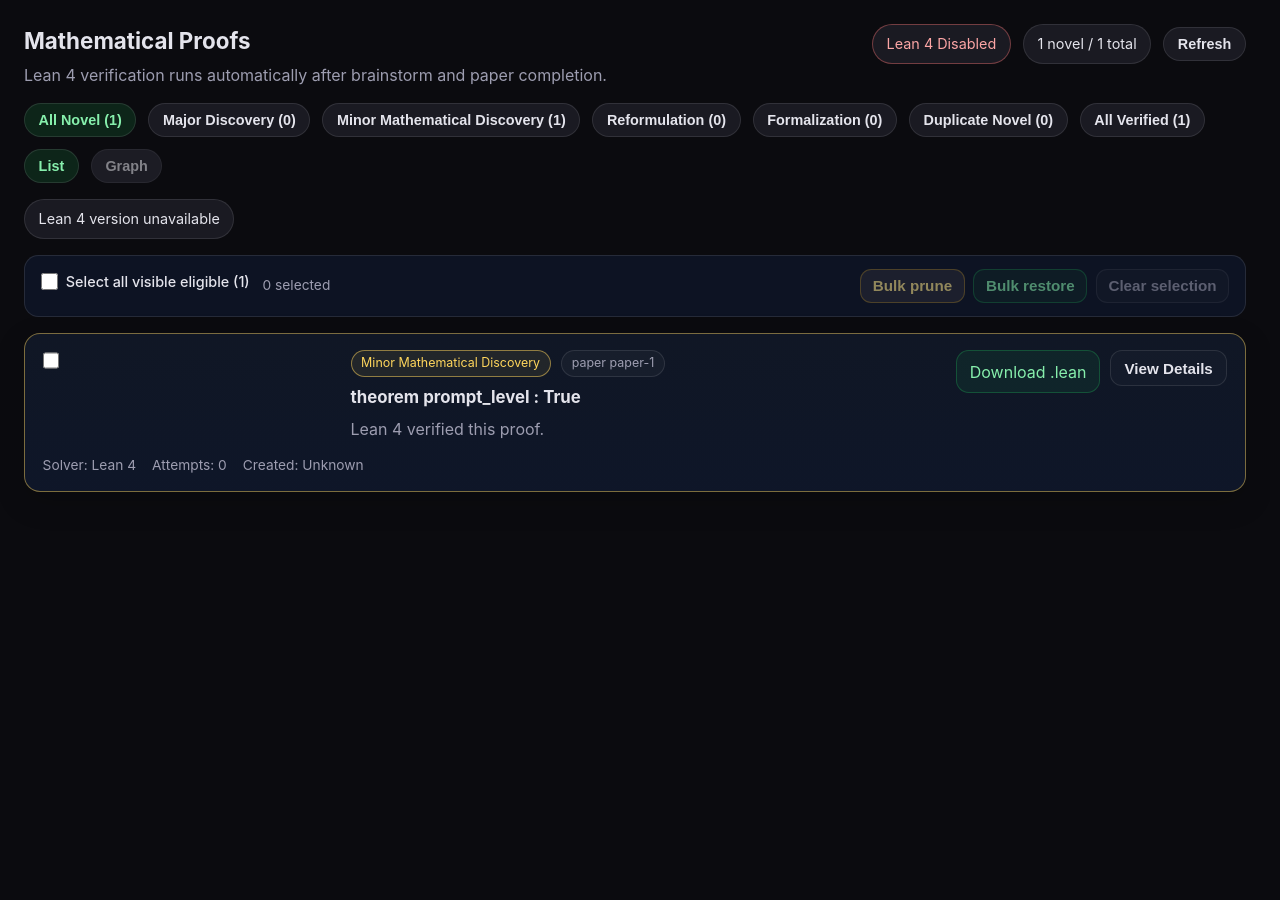
shows active proofs directly without a prompt-level collapse
This screenshot has width=1280, height=900.
Expected: the heading "theorem prompt_level : True" is shown, [350,387,581,407]
Click the button "View Details" at (1169, 368), box [1110,350,1227,386]
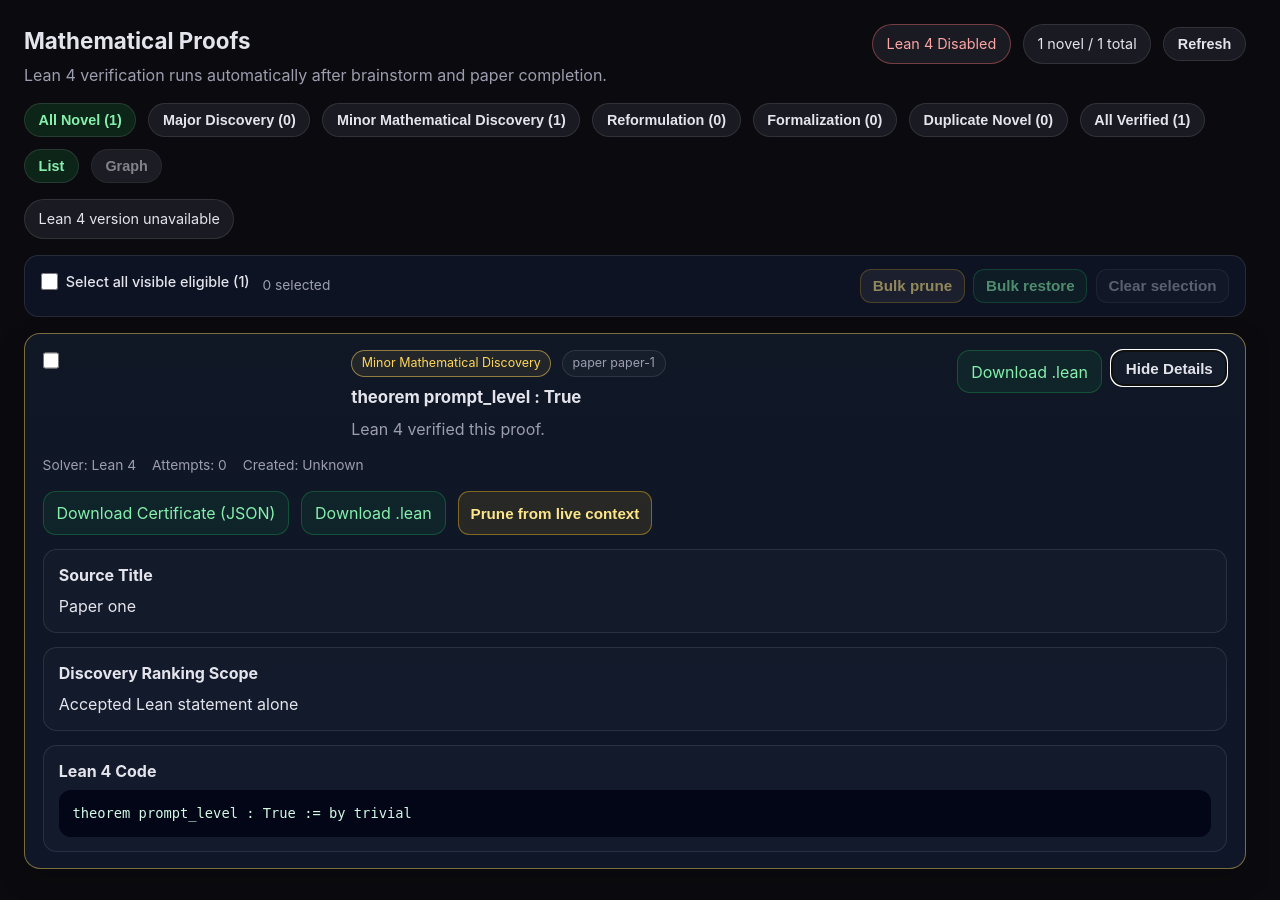
Expected: the text "theorem prompt_level : True := by trivial" is shown, [59,790,1211,837]
